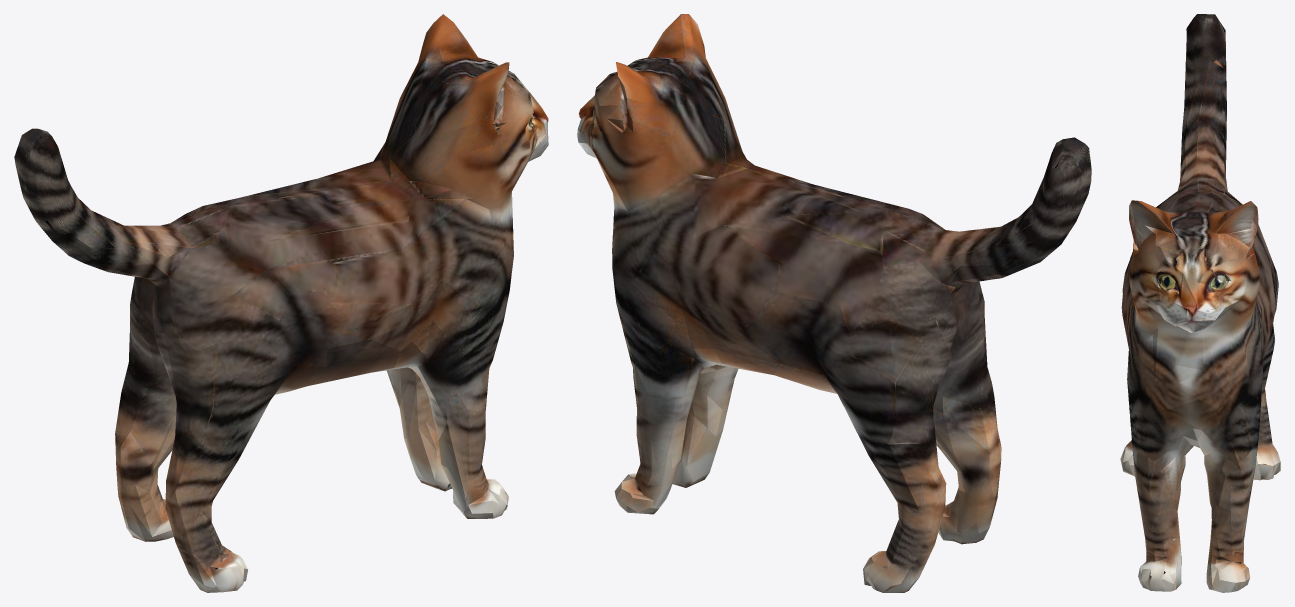
The model's file is leveraged-cat-lo.glb.
3 renders of one model, left to right at view 1: azimuth 30°, elevation 25°; view 2: azimuth 150°, elevation 25°; view 3: azimuth 270°, elevation 25°, orthographic. The views are drawn at different scales.
Parts seen in each view (by area): view 1: output_unwrapped; view 2: output_unwrapped; view 3: output_unwrapped.
Boxes of the visible parts, x1,y1,x2,y2 form: output_unwrapped: (14, 14, 548, 592); output_unwrapped: (577, 14, 1091, 592); output_unwrapped: (1120, 14, 1280, 592).
Bounding box in the file's own units: 1.17 × 1 × 0.365.
1 material, 1 textured.
